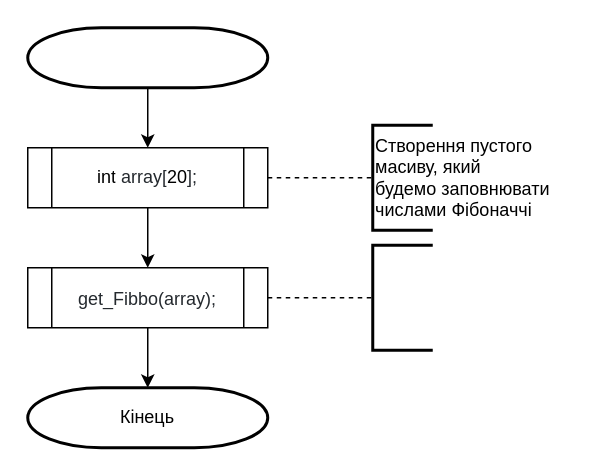
The diagram is 594 pixels wide and 474 high, and some of its shapes have lost their labels. Here are the shapes that lost their labels. From the top down, the centre of each, then its label:
At (147,57): "Початок".
At (402,297): "Функція, яка заповнює масив".
